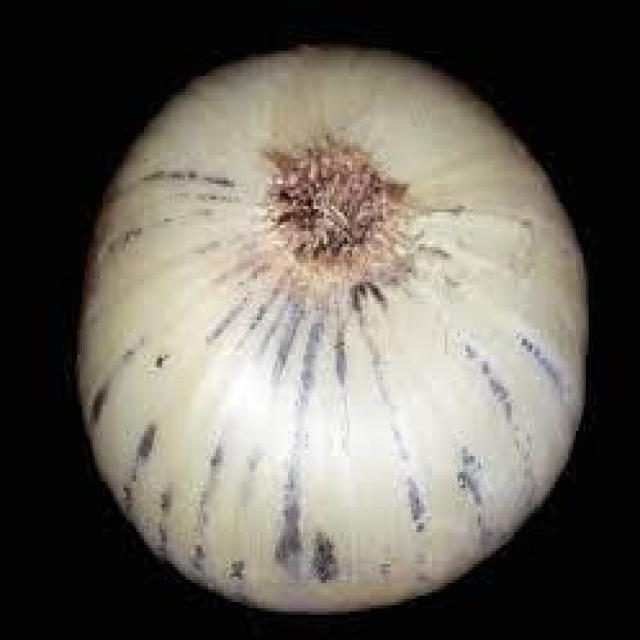Onion: (67, 41, 594, 621)
